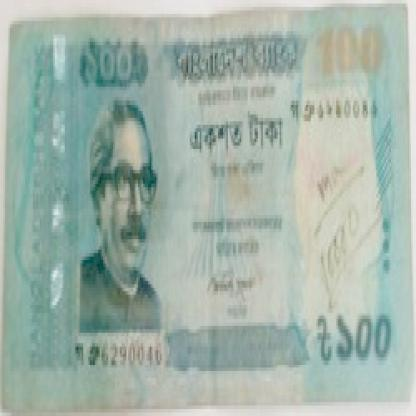one hundred taka: (318, 305, 398, 371), (78, 35, 140, 94)
